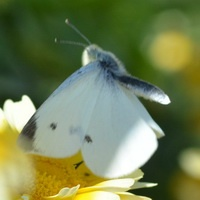insect: (18, 45, 169, 177)
